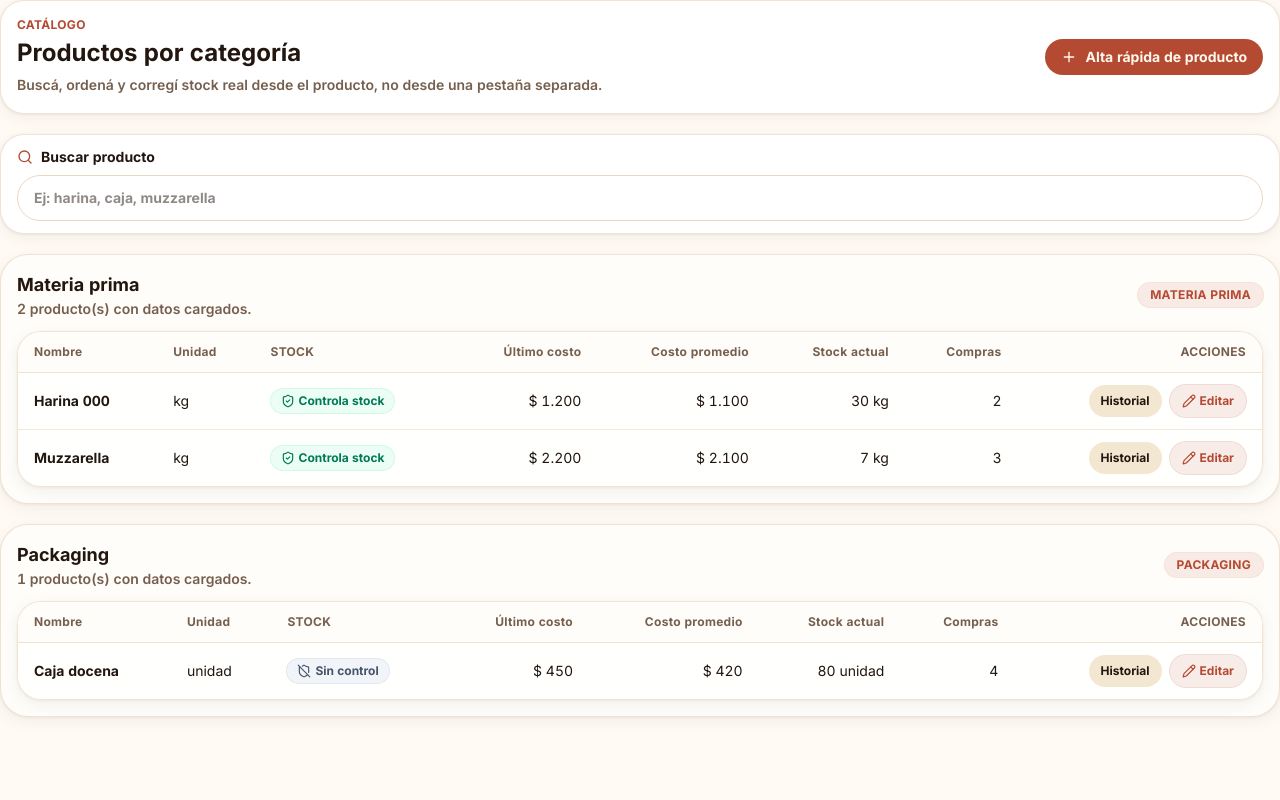
Test: FinanceCatalog › keeps the create product sheet open after a successful save
Click the button "Alta rápida de producto": (1154,57) [1045,39,1263,75]
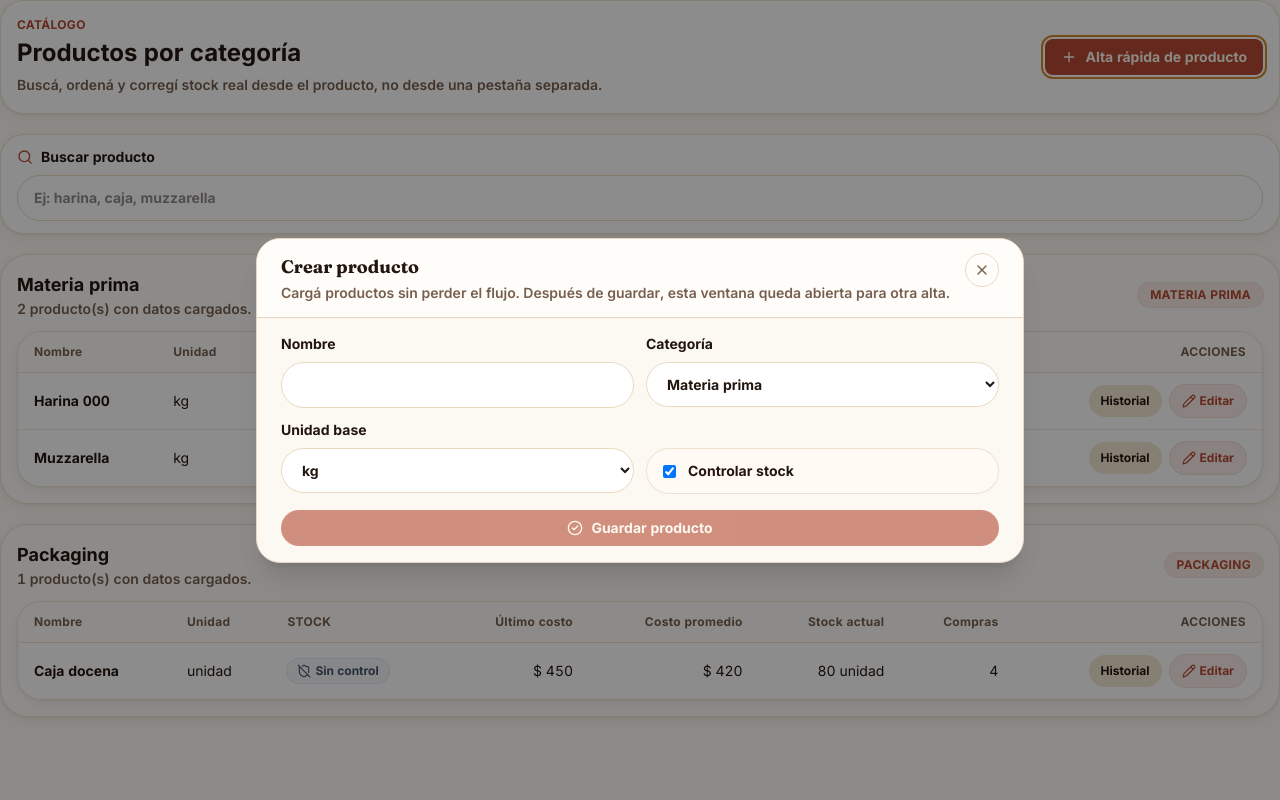
In the field labelled "Nombre": (458,384) [281,362,634,408], type "Tapas premium"
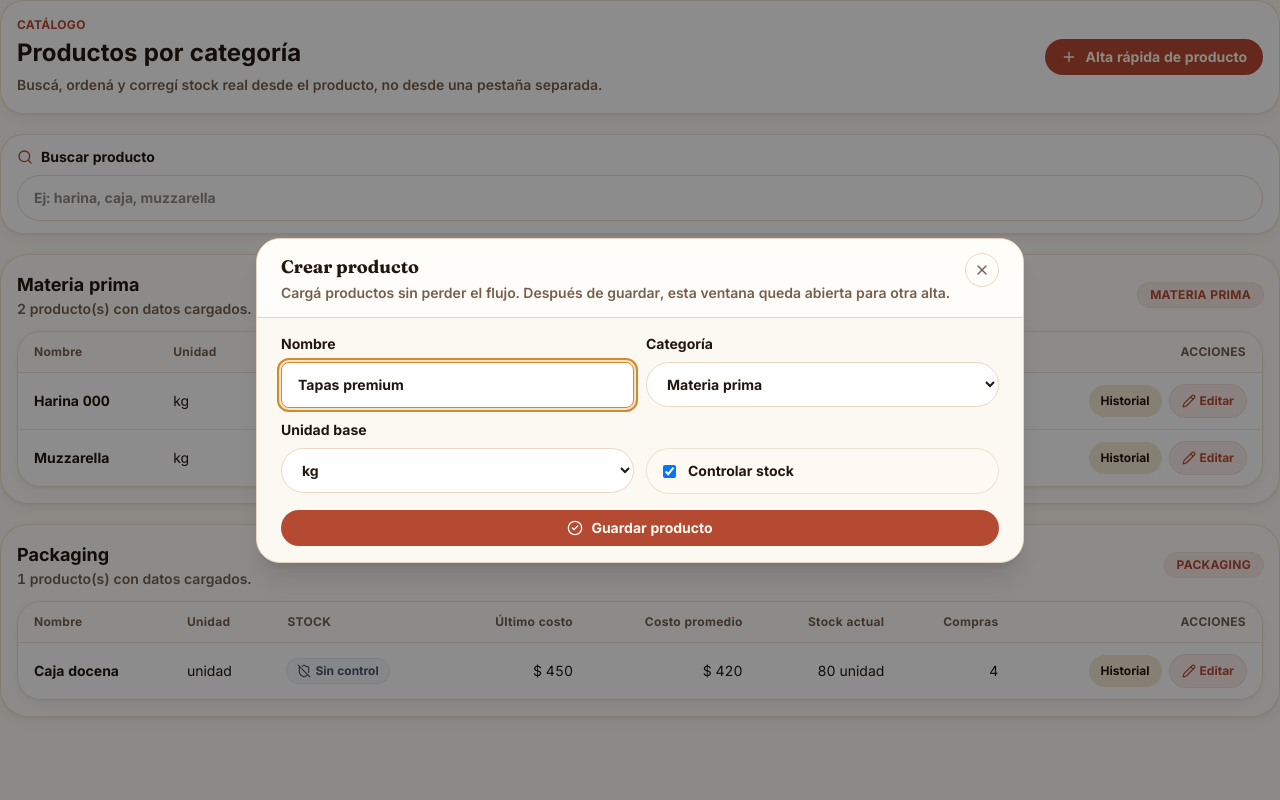
Click the button "Guardar producto": (640,528) [281,510,999,546]
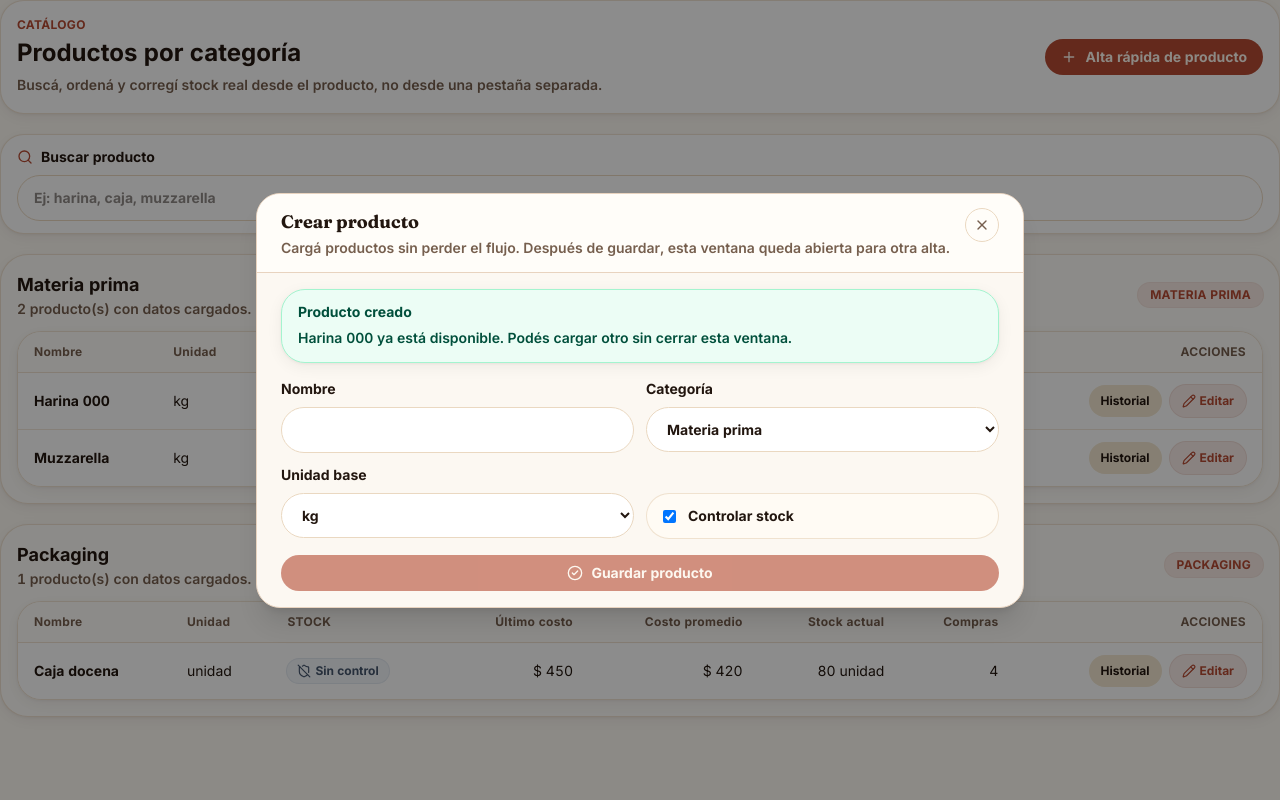
Expected: the dialog "Crear producto" is shown, [256,192,1024,608]
Expected: the text "Producto creado" is shown, [298,302,412,320]
